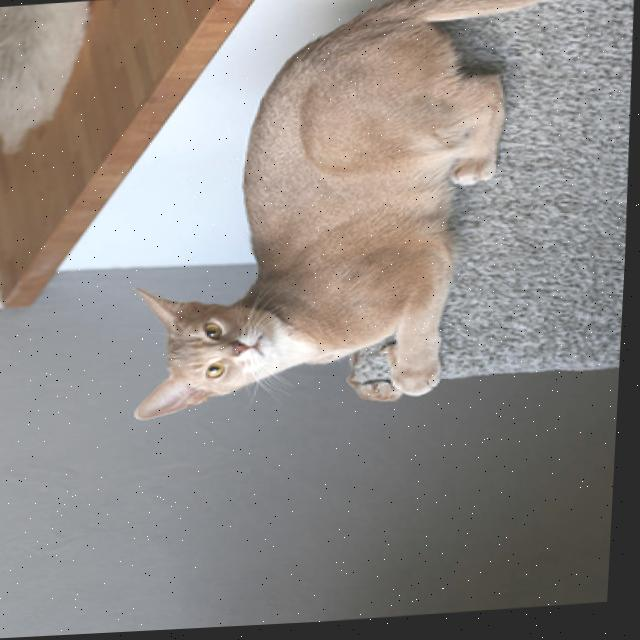Abyssinian: (123, 0, 640, 429)
